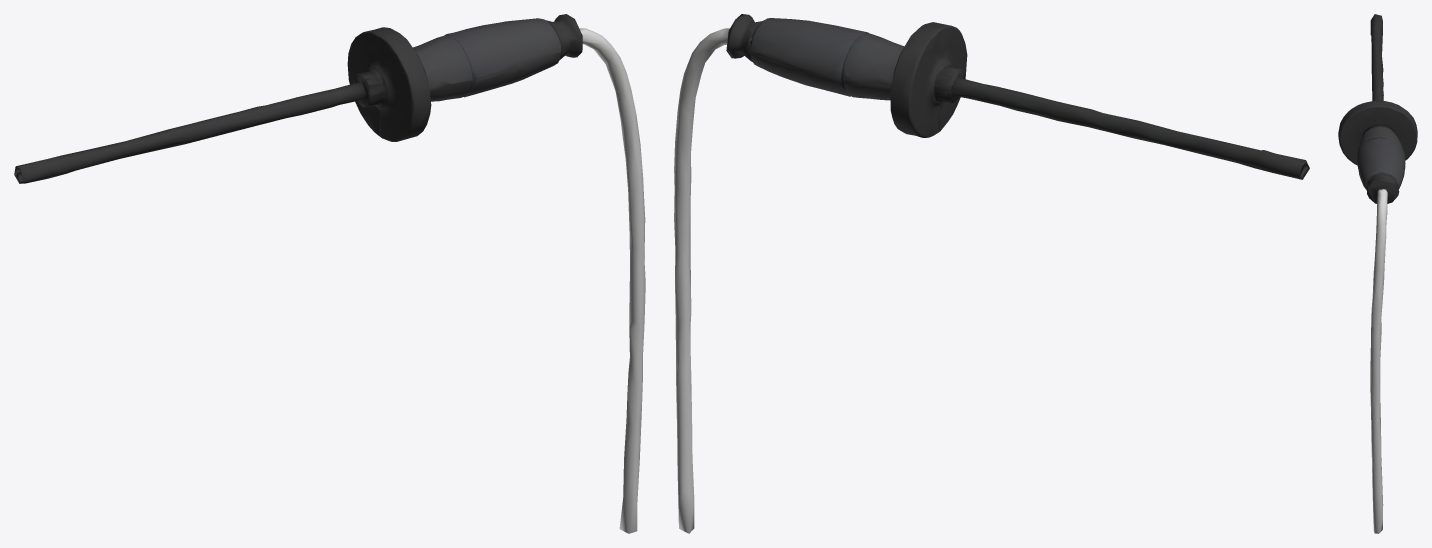
Rendered from soldering_iron_3d_model.fbx.
3 renders of one model, left to right at view 1: azimuth 30°, elevation 25°; view 2: azimuth 150°, elevation 25°; view 3: azimuth 270°, elevation 25°, orthographic. The views are drawn at different scales.
Visible parts, largest first — view 1: tripo_node_ba69086f; view 2: tripo_node_ba69086f; view 3: tripo_node_ba69086f.
Boxes of the visible parts, x1,y1,x2,y2 form: tripo_node_ba69086f: [14, 14, 645, 533]; tripo_node_ba69086f: [674, 14, 1309, 533]; tripo_node_ba69086f: [1338, 14, 1417, 533].
Size of the model in its own units: 0.9814 by 0.8325 by 0.1691.
